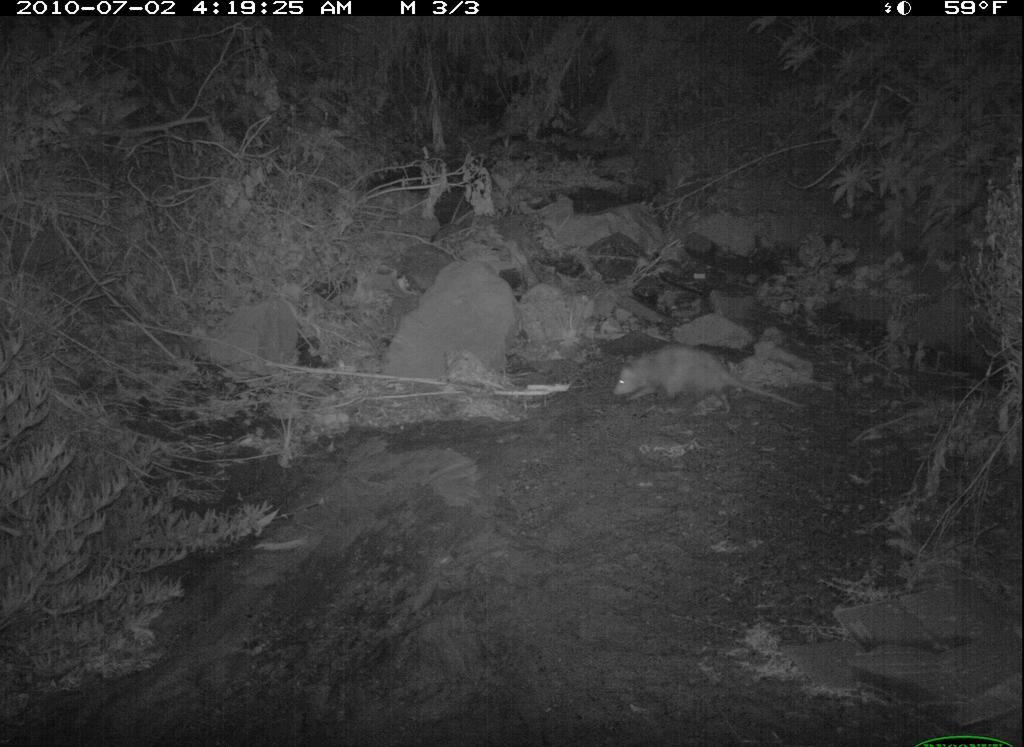opossum: (609, 337, 804, 429)
